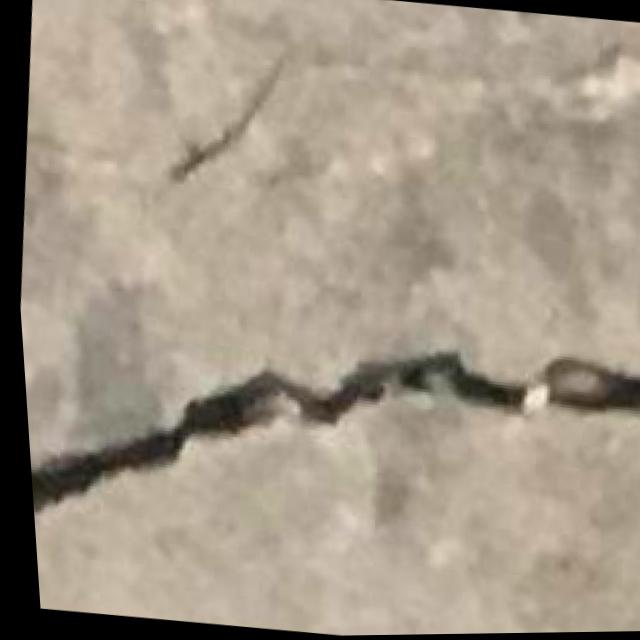Crack: (16, 290, 640, 596)
